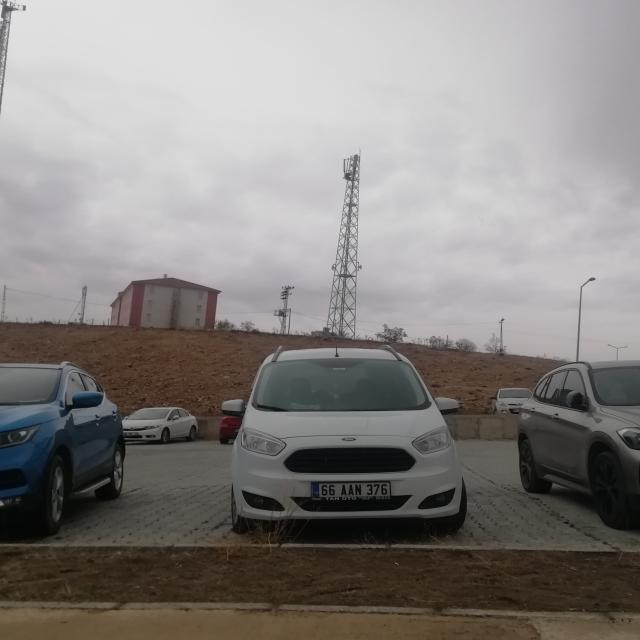license_plate: (312, 480, 391, 498)
